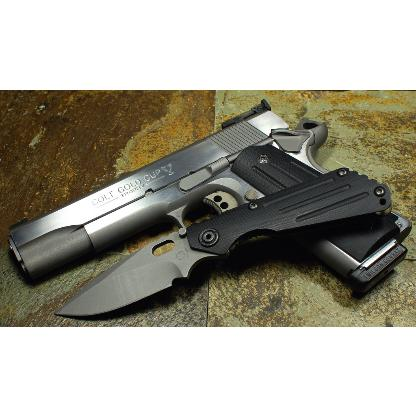gun: (8, 98, 412, 298)
